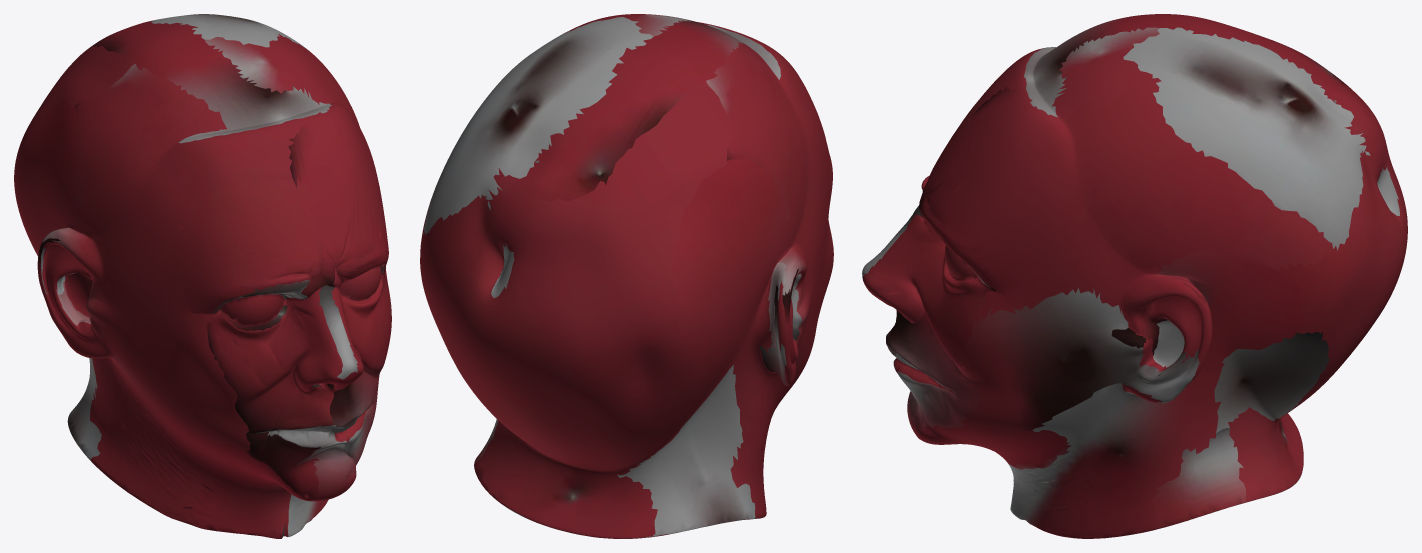
File: masque micheal myers.glb
3 views of the same model, side by side, from view 1: azimuth 30°, elevation 25°; view 2: azimuth 150°, elevation 25°; view 3: azimuth 270°, elevation 25° (orthographic). The views are drawn at different scales.
Visible parts, largest first — view 1: node_0; view 2: node_0; view 3: node_0.
Part boxes in pixels (<box>): node_0: <box>14,14,391,538</box>; node_0: <box>420,14,833,538</box>; node_0: <box>862,14,1407,538</box>.
Bounding box in the file's own units: 0.7677 × 1.08 × 1.12.
Materials: 1 (1 with a texture image).
